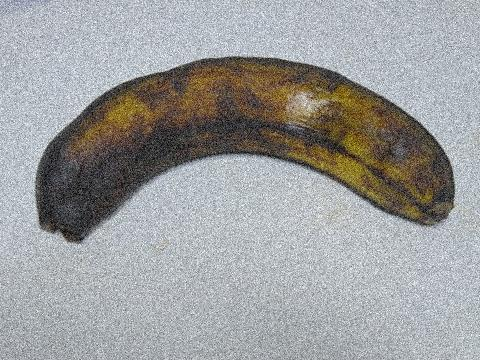overripe: (15, 38, 469, 268)
